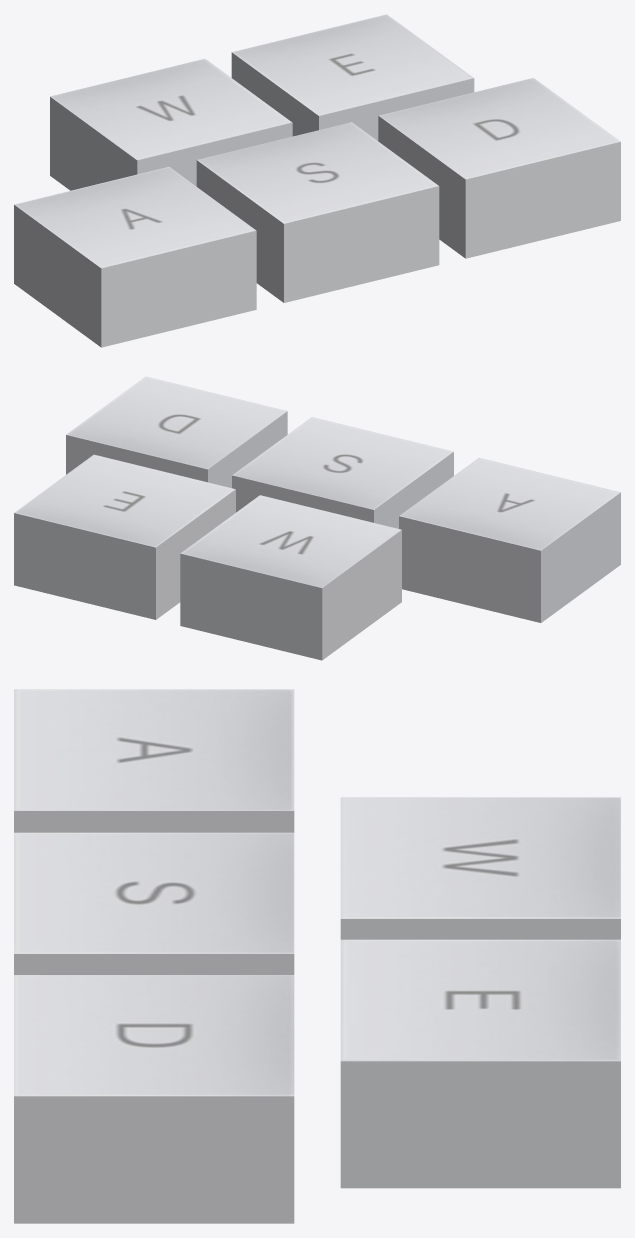
Rendered from keys.glb.
3 views of the same model, one above another, from view 1: azimuth 30°, elevation 25°; view 2: azimuth 150°, elevation 25°; view 3: azimuth 270°, elevation 25° (orthographic). The views are drawn at different scales.
Visible parts, largest first — view 1: Object_22, Object_65, Object_31, Object_74, Object_34; view 2: Object_74, Object_22, Object_34, Object_31, Object_65; view 3: Object_34, Object_31, Object_22, Object_74, Object_65.
Boxes of the visible parts, x1,y1,x2,y2 form: Object_22: (14,167,256,347); Object_65: (196,122,439,302); Object_31: (378,78,620,258); Object_74: (50,58,292,190); Object_34: (231,14,474,140); Object_74: (180,495,401,660); Object_22: (399,457,620,622); Object_34: (14,454,235,619); Object_31: (66,376,287,487); Object_65: (232,417,453,528); Object_34: (340,939,620,1188); Object_31: (14,975,294,1223); Object_22: (14,689,294,832); Object_74: (340,797,620,939); Object_65: (14,832,294,974).
Bounding box in the file's own units: 0.9538 × 0.1388 × 0.6012.
5 materials, 5 textured.
